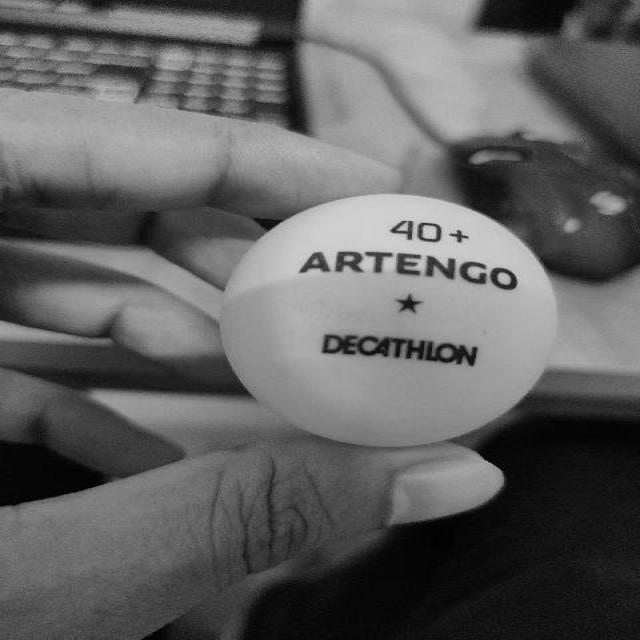ping-pong-ball: (222, 193, 558, 445)
